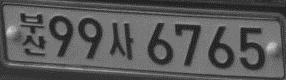5: (239, 27, 265, 70)
6: (146, 22, 173, 65), (207, 25, 234, 68)
7: (173, 23, 201, 66)
9: (77, 16, 103, 58), (48, 15, 73, 57)
부산_V: (19, 12, 46, 56)
사: (109, 22, 134, 60)
